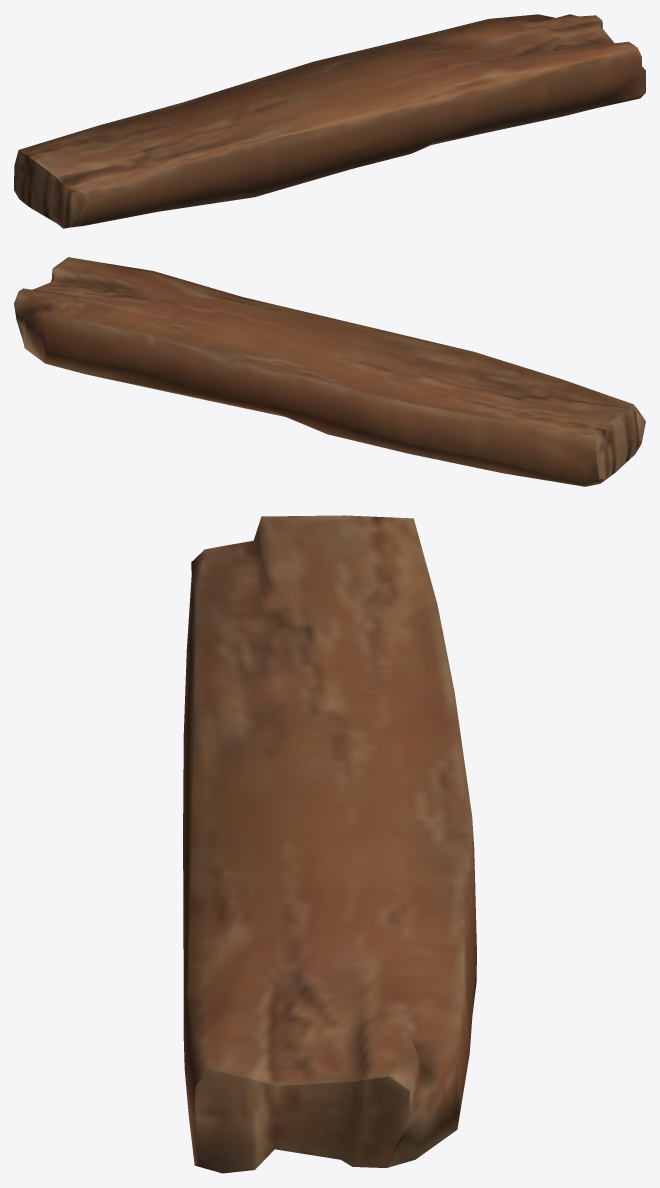
File: SM_Farm_Plank_03.fbx
3 renders of one model, top to bottom at view 1: azimuth 30°, elevation 25°; view 2: azimuth 150°, elevation 25°; view 3: azimuth 270°, elevation 25°, orthographic. The views are drawn at different scales.
Visible parts, largest first — view 1: SM_Farm_Plank_03_LOD0; view 2: SM_Farm_Plank_03_LOD0; view 3: SM_Farm_Plank_03_LOD0.
Part boxes in pixels (x1,y1,x2,y2): SM_Farm_Plank_03_LOD0: (14, 14, 645, 228); SM_Farm_Plank_03_LOD0: (14, 257, 645, 486); SM_Farm_Plank_03_LOD0: (183, 515, 476, 1173).
Bounding box in the file's own units: 99.86 × 9.68 × 21.9.
